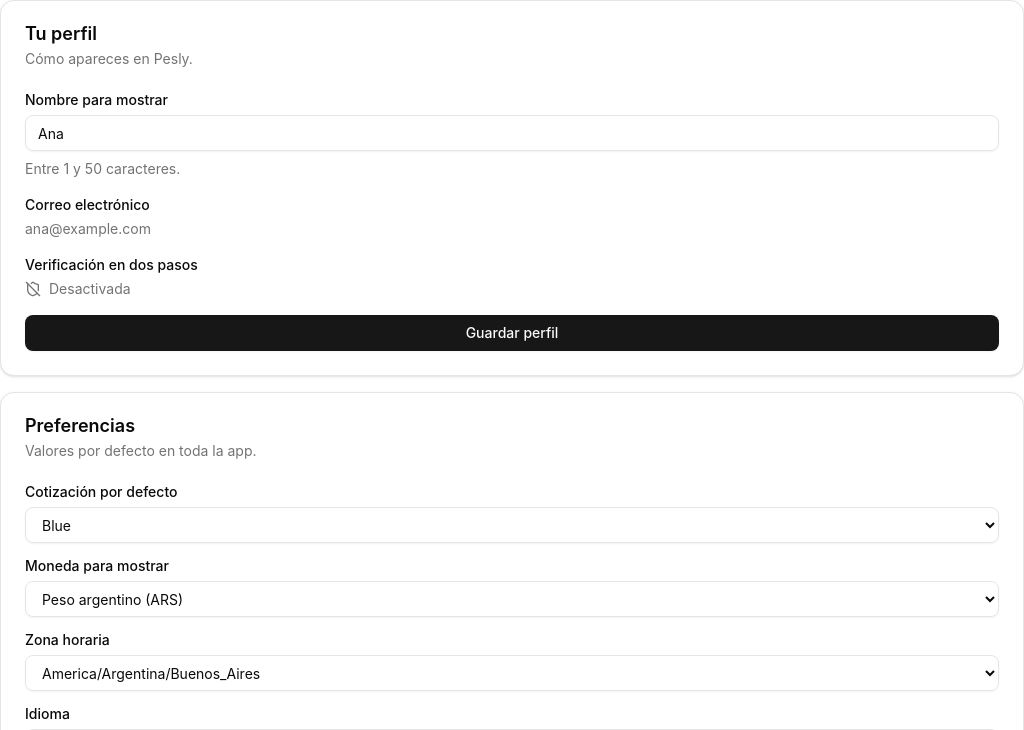
Test case: ProfileContainer › rejects a empty name on the client, with a field message and no request (AC-03)
This screenshot has width=1024, height=730.
Clear the field labelled "Nombre para mostrar": (512, 133) x1=25 y1=115 x2=999 y2=151
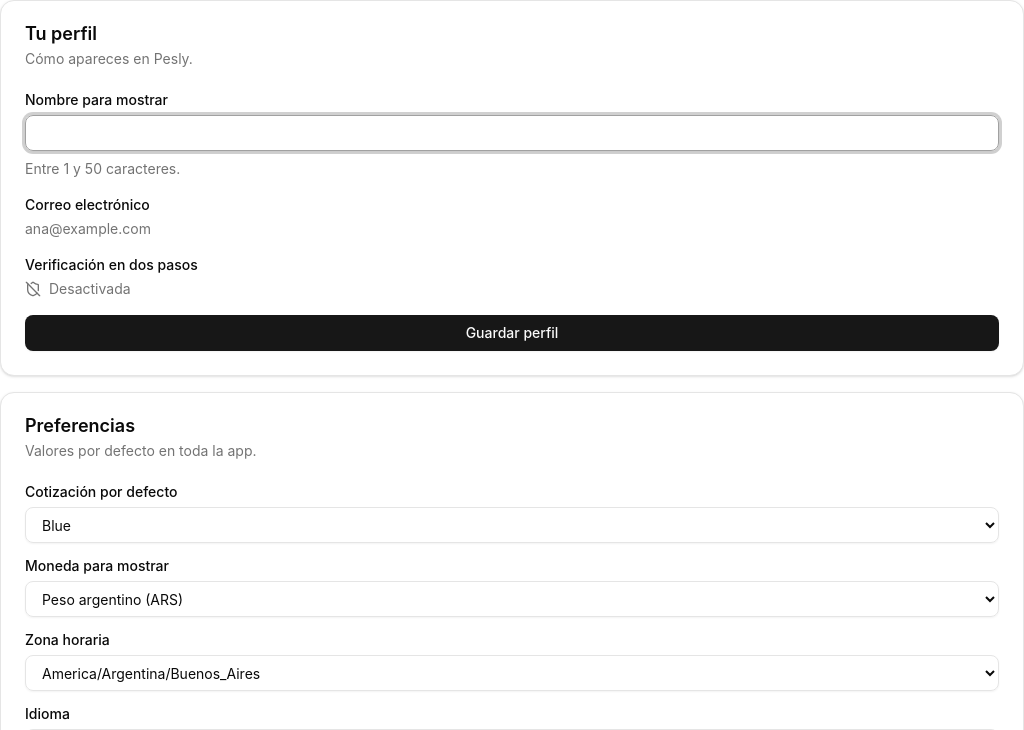
Click the button "Guardar perfil": (512, 333) x1=25 y1=315 x2=999 y2=351
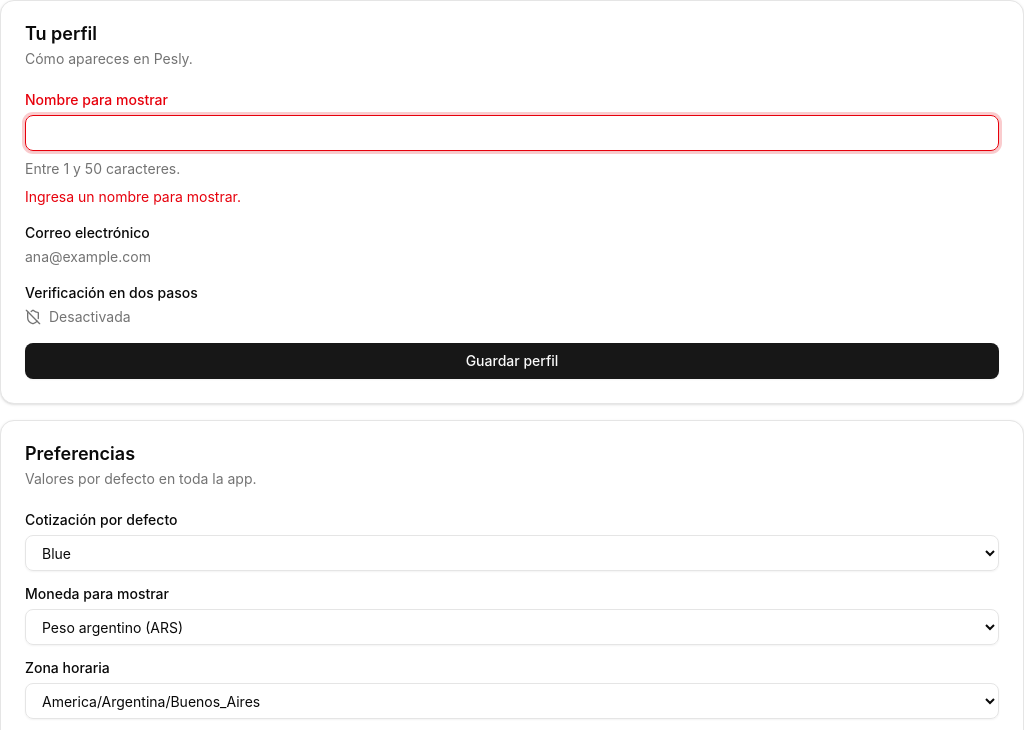
Check: the text "Ingresa un nombre para mostrar." is shown, box x1=25 y1=188 x2=241 y2=205
